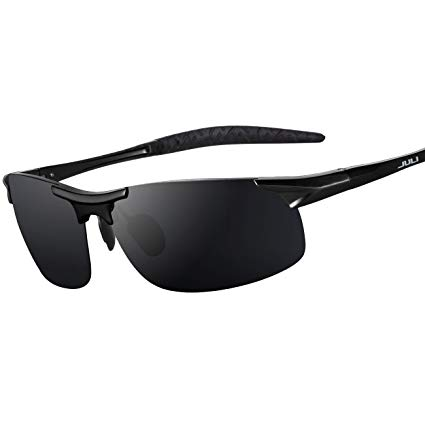sunglasses: (4, 127, 420, 312)
